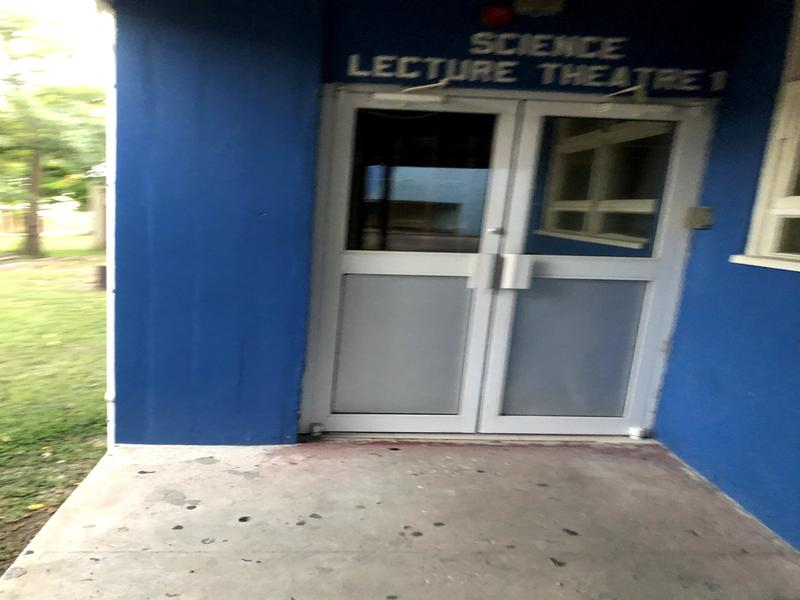18.0051836_-76.7497262_pclt1: (294, 9, 729, 468)
